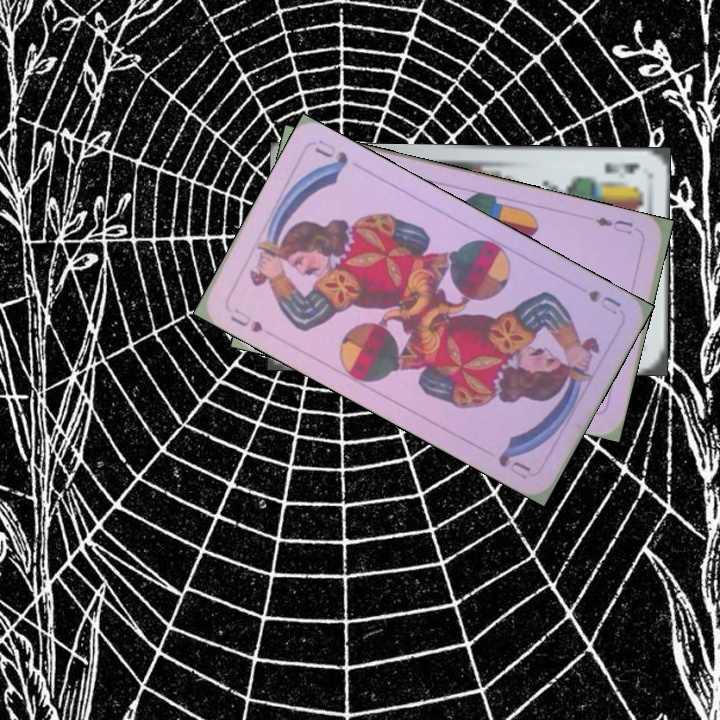EK: (600, 158, 641, 177)
EU: (591, 213, 636, 237)
SU: (584, 286, 624, 318), (226, 304, 266, 335)
